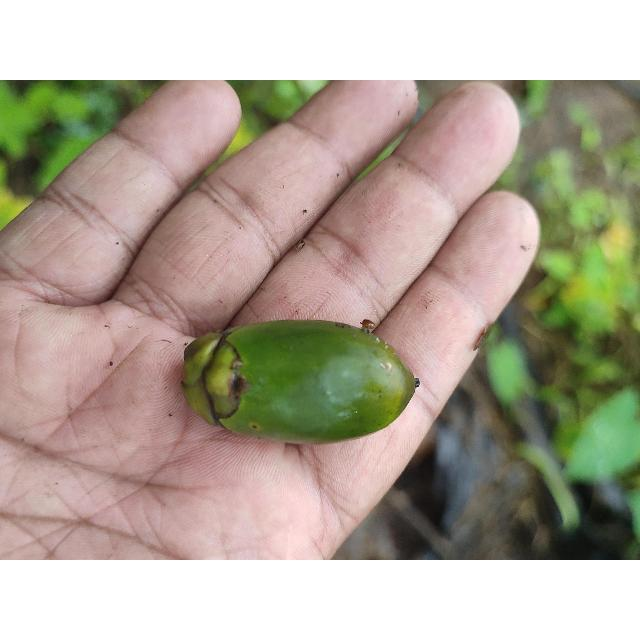damaged: (178, 319, 421, 447)
